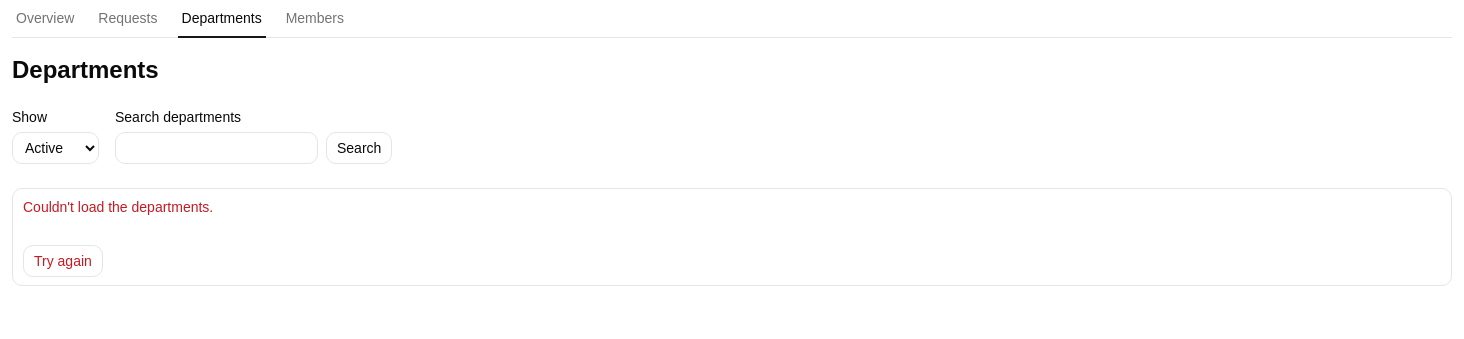
Test case: DepartmentsPage › recovers from a failed load
Expected: the text "Couldn't load the departments." is shown, [23,199,213,215]
Click the button "Try again" at (63, 261), box [23,245,103,277]
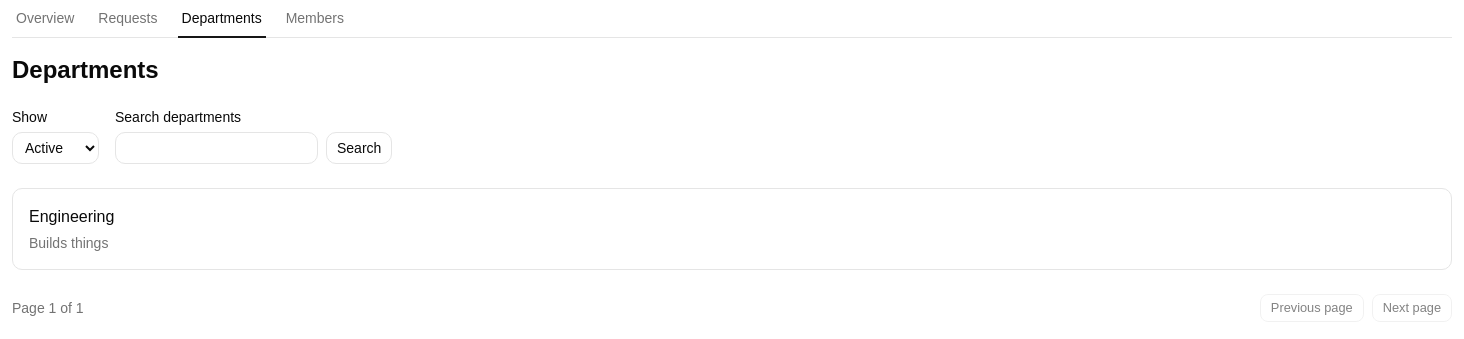
Result: the link "Engineering" is shown at [29,205,114,229]
